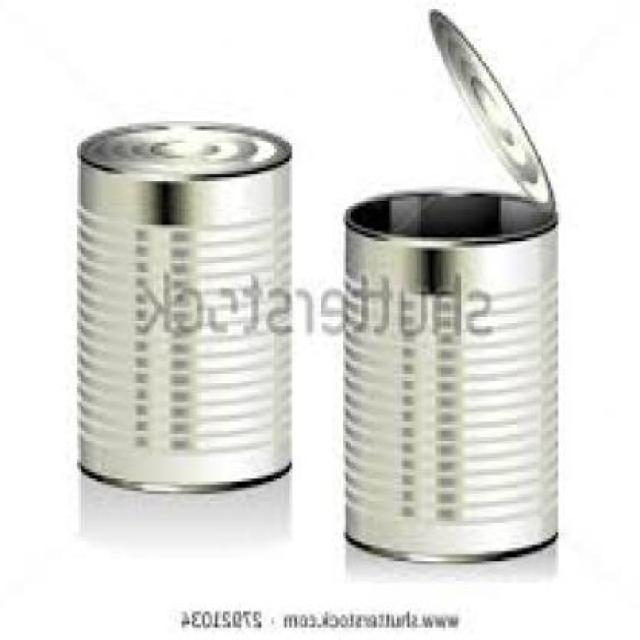METAL: (79, 117, 298, 494), (348, 187, 561, 558), (432, 6, 558, 209)
